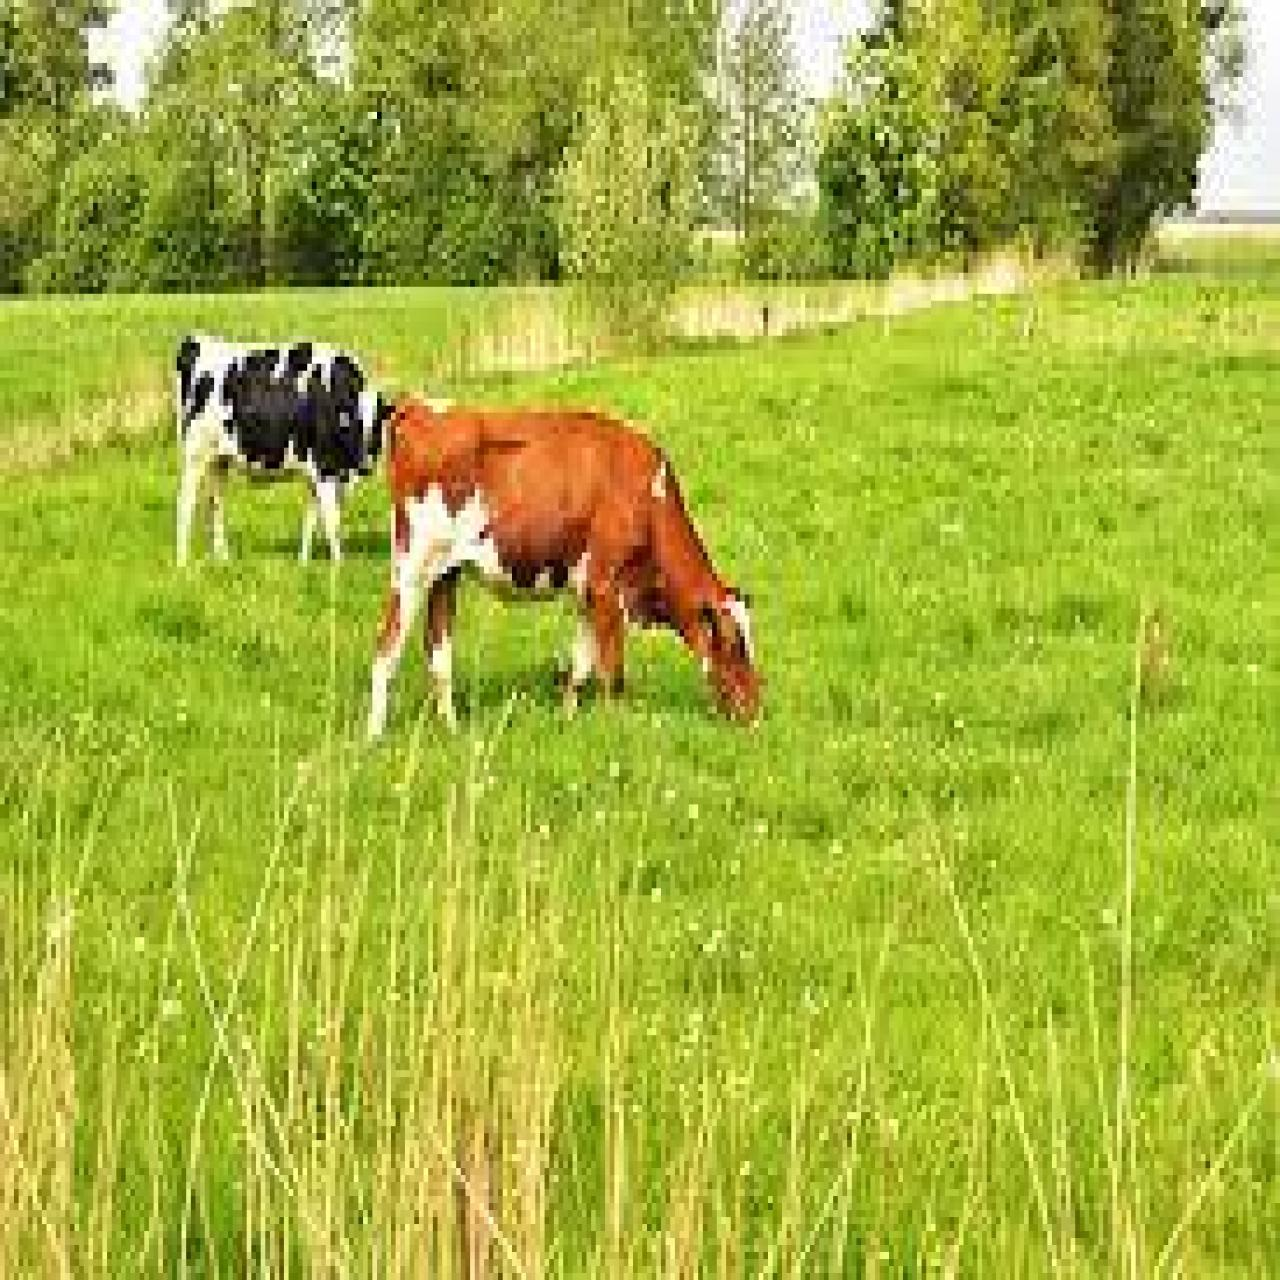cow: (368, 395, 768, 737), (175, 325, 399, 577)
